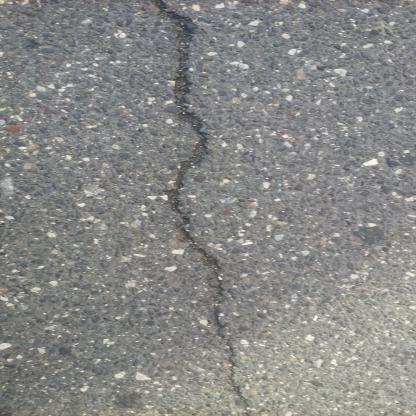Cracks: (145, 1, 256, 415)
